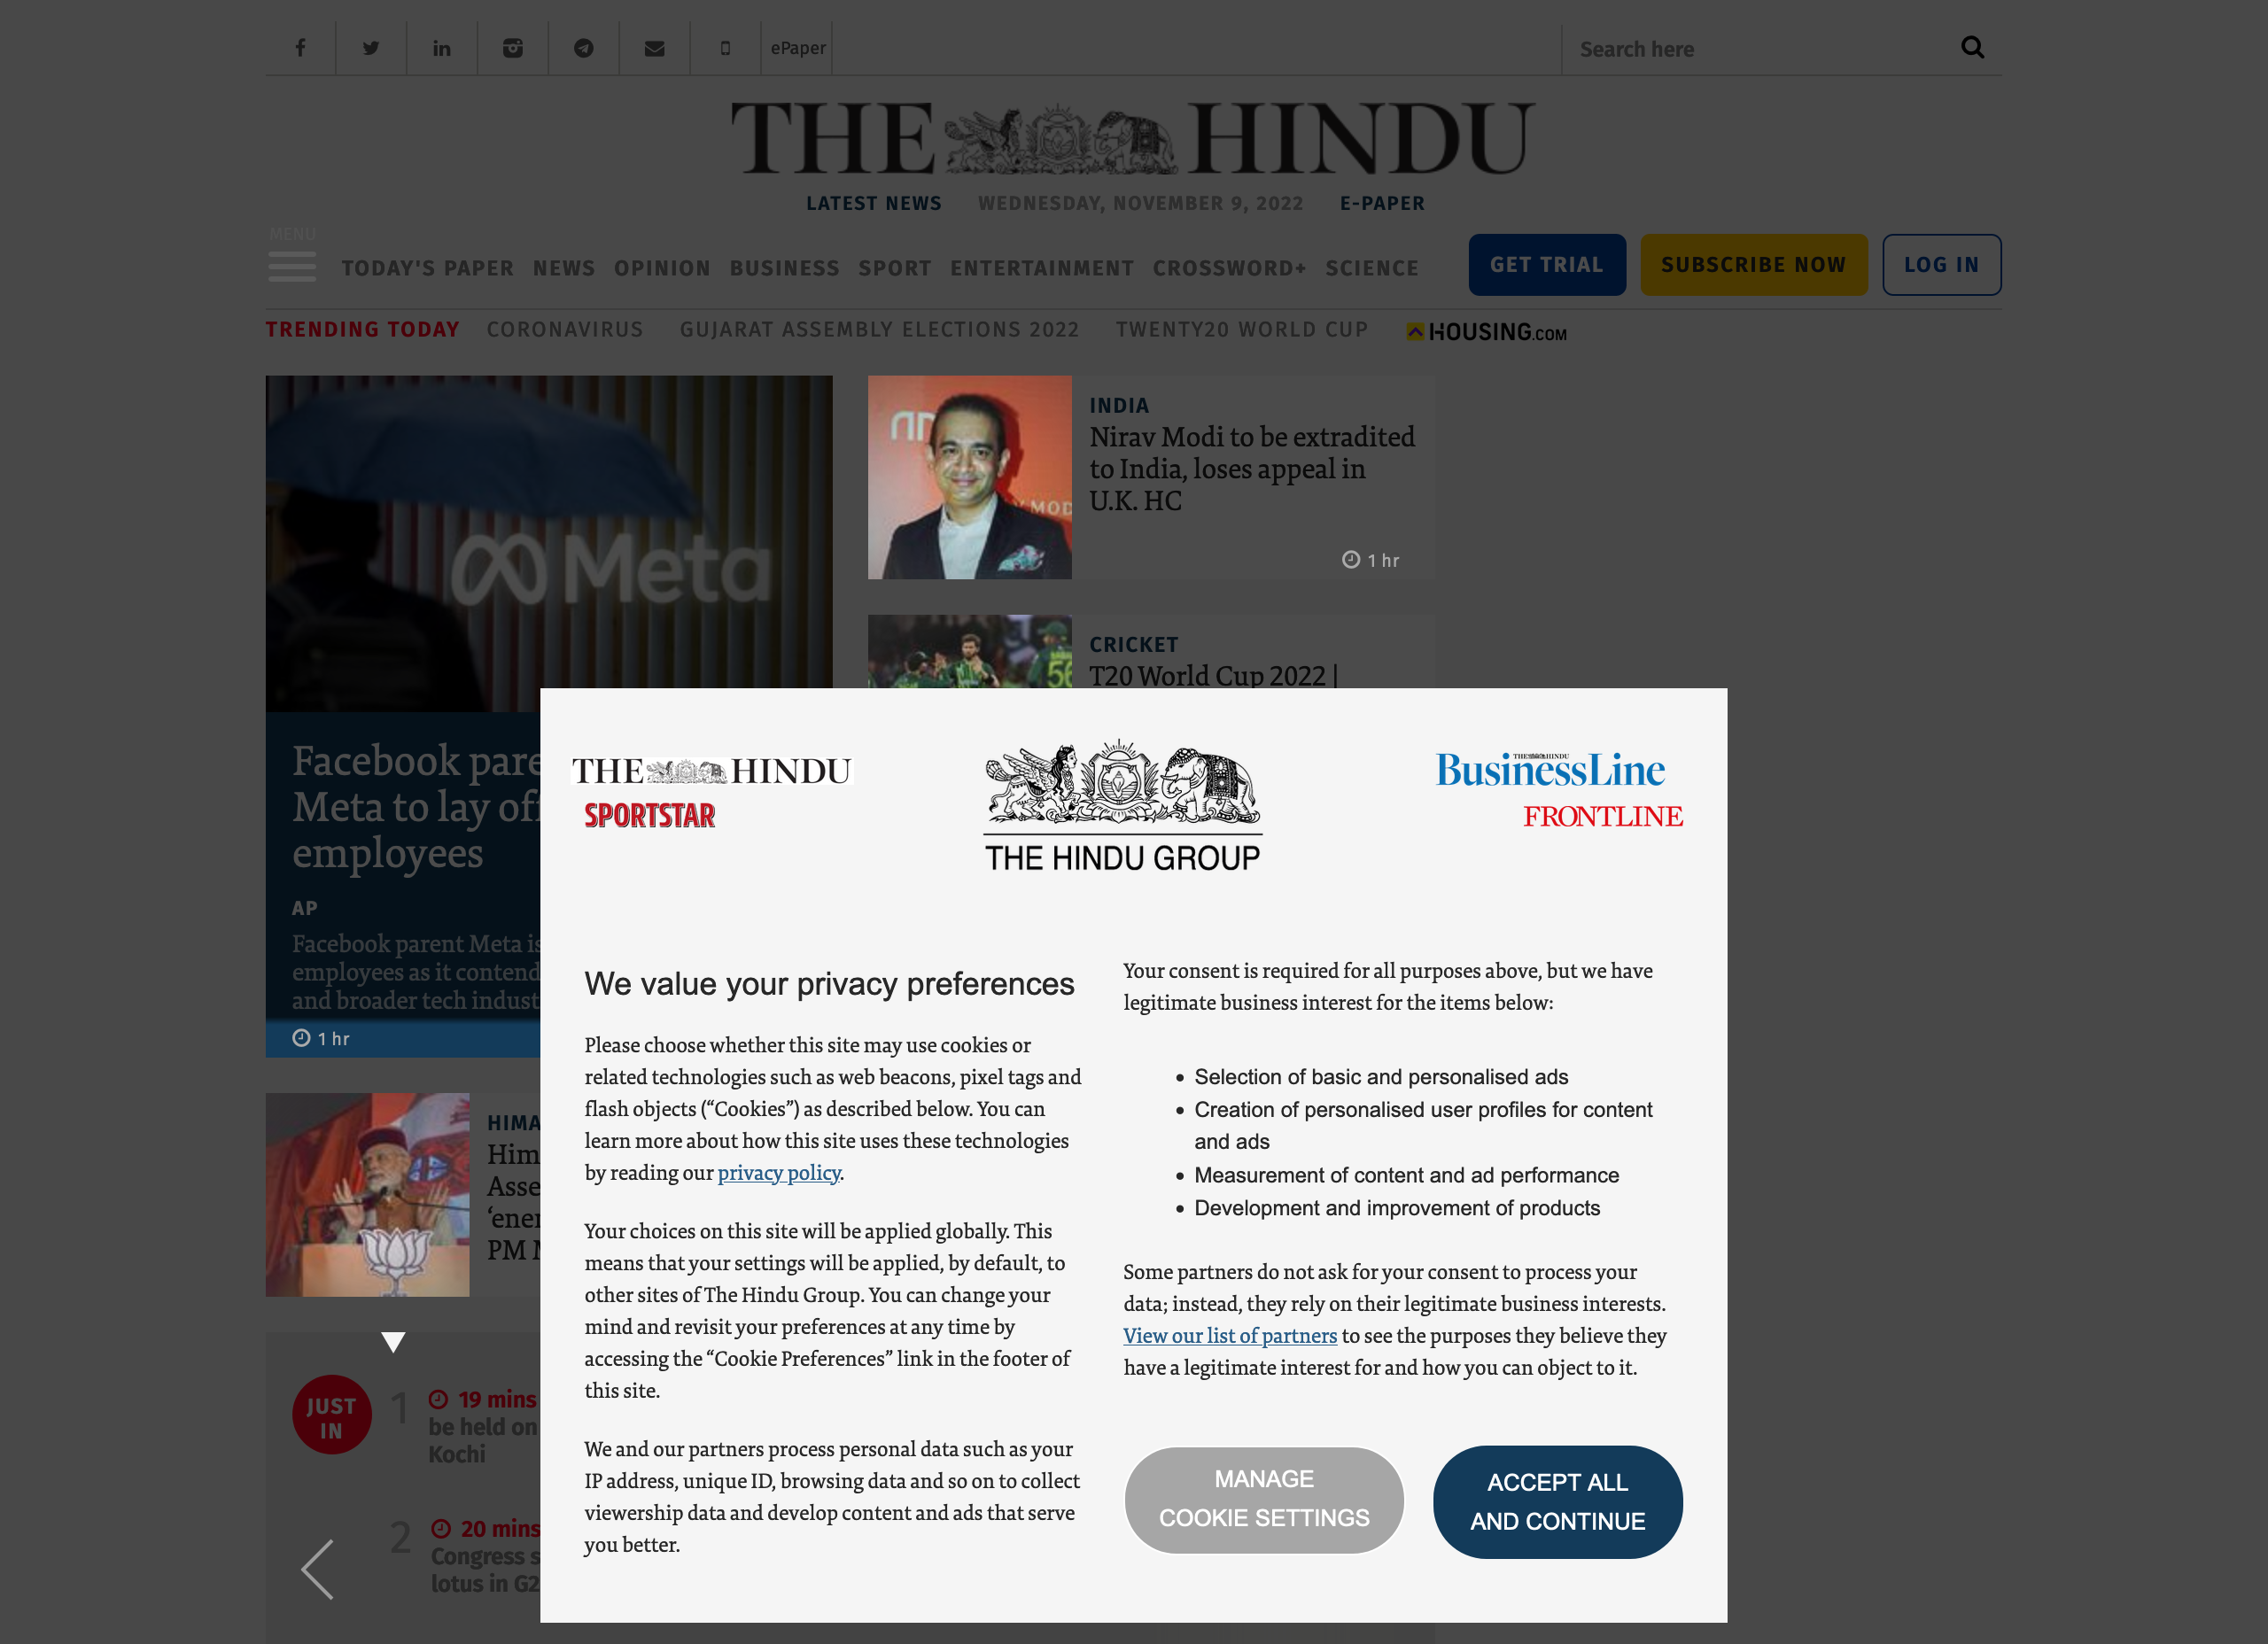Login: (1877, 224, 2014, 303)
